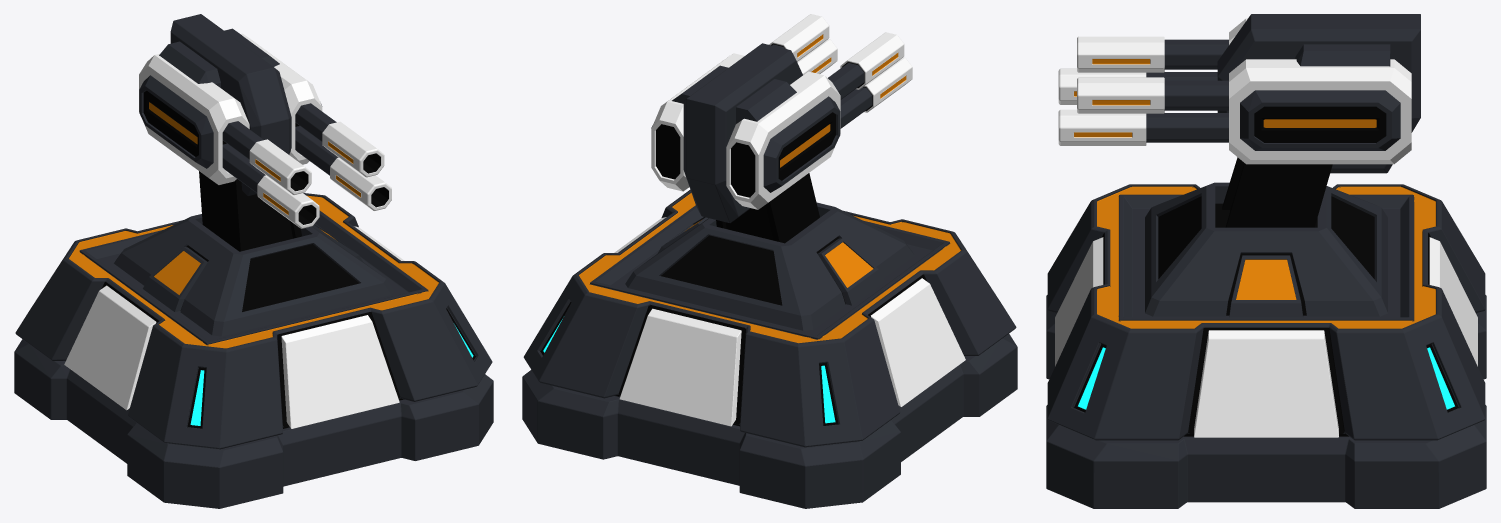
The model's file is SM_Quad_Barrel_Gun.fbx.
The picture shows the model from 3 angles, left to right: view 1: azimuth 30°, elevation 25°; view 2: azimuth 150°, elevation 25°; view 3: azimuth 270°, elevation 25°; orthographic projection. The views are drawn at different scales.
Visible parts, largest first — view 1: SM_Quad_Barrel_Gun_Base, SM_Quad_Barrel_Gun_Head; view 2: SM_Quad_Barrel_Gun_Base, SM_Quad_Barrel_Gun_Head; view 3: SM_Quad_Barrel_Gun_Base, SM_Quad_Barrel_Gun_Head.
Part boxes in pixels (box(x1,y1,x2,y2)): SM_Quad_Barrel_Gun_Base: box(14, 171, 493, 508); SM_Quad_Barrel_Gun_Head: box(139, 14, 391, 228); SM_Quad_Barrel_Gun_Base: box(522, 173, 1017, 508); SM_Quad_Barrel_Gun_Head: box(651, 14, 912, 222); SM_Quad_Barrel_Gun_Base: box(1046, 157, 1486, 508); SM_Quad_Barrel_Gun_Head: box(1058, 14, 1420, 173).
Bounding box in the file's own units: 100 × 98.9 × 100.
